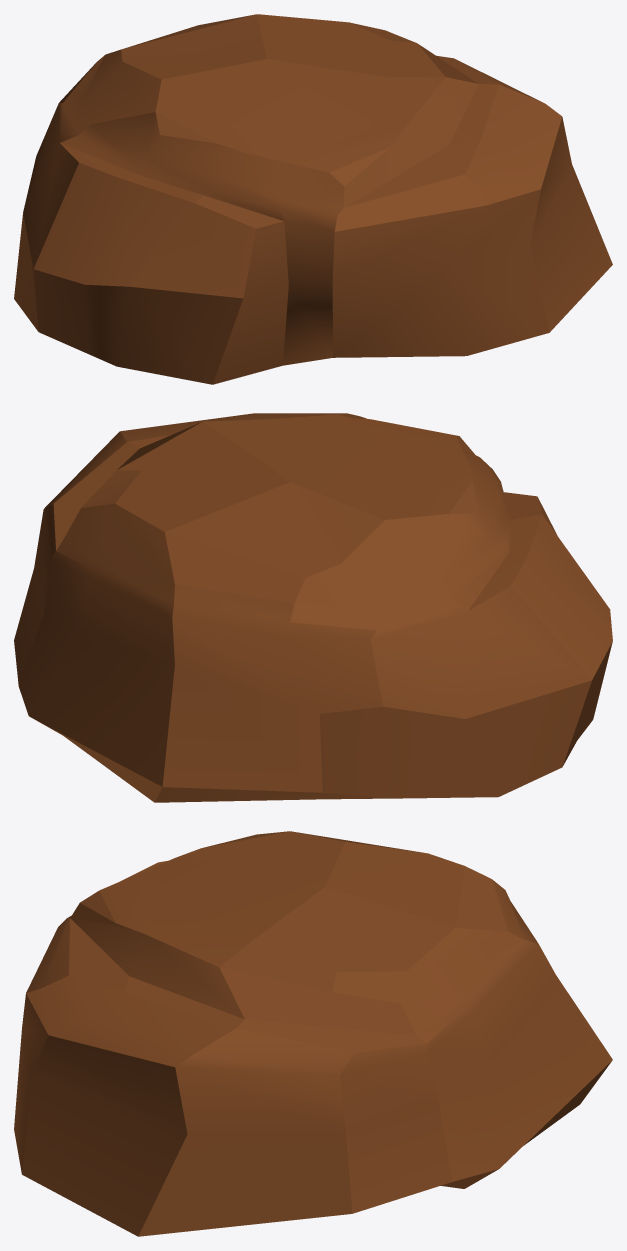
The model's file is Rock Large 1.glb.
3 views of the same model, one above another, from view 1: azimuth 30°, elevation 25°; view 2: azimuth 150°, elevation 25°; view 3: azimuth 270°, elevation 25° (orthographic). The views are drawn at different scales.
Visible parts, largest first — view 1: Rock_Large_1; view 2: Rock_Large_1; view 3: Rock_Large_1.
Part boxes in pixels (box(x1,y1,x2,y2)): Rock_Large_1: box(14, 14, 612, 384); Rock_Large_1: box(14, 413, 612, 802); Rock_Large_1: box(14, 831, 612, 1236).
Size of the model in its own units: 7.67 by 3.29 by 7.33.
Materials: 1 (1 with a texture image).
